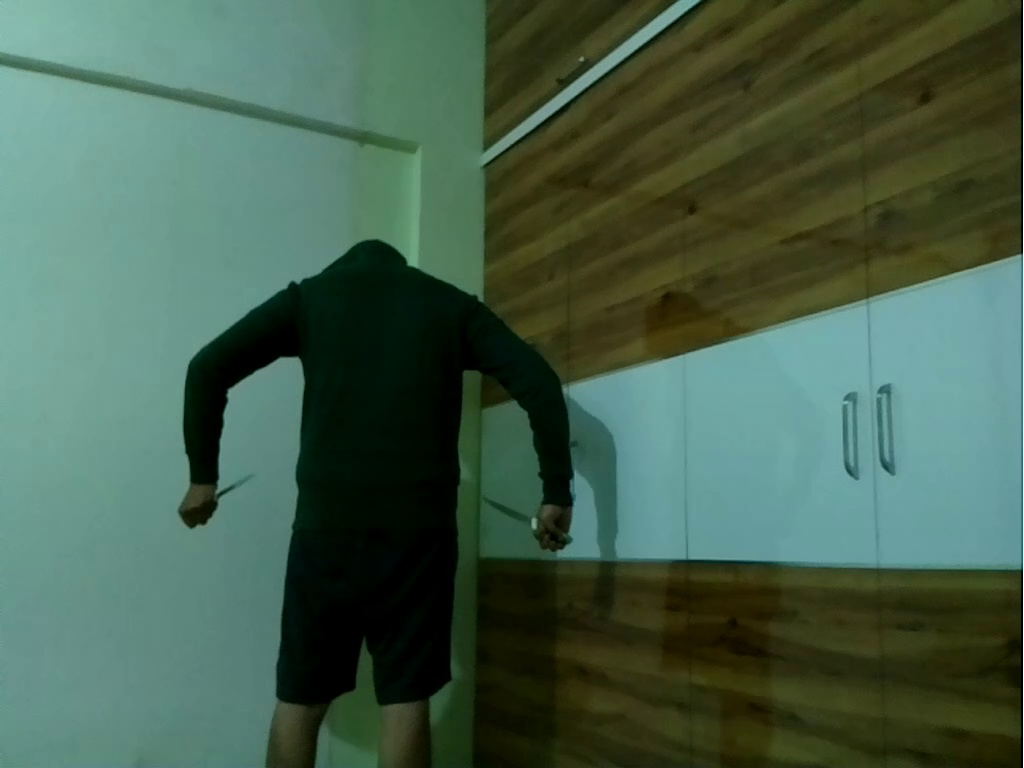knife: (184, 466, 267, 526), (474, 490, 559, 544)
